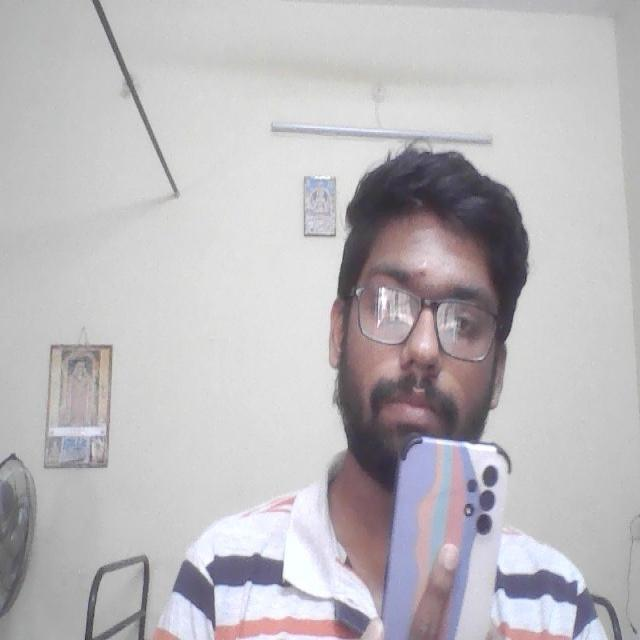Mobile: (386, 437, 512, 640)
